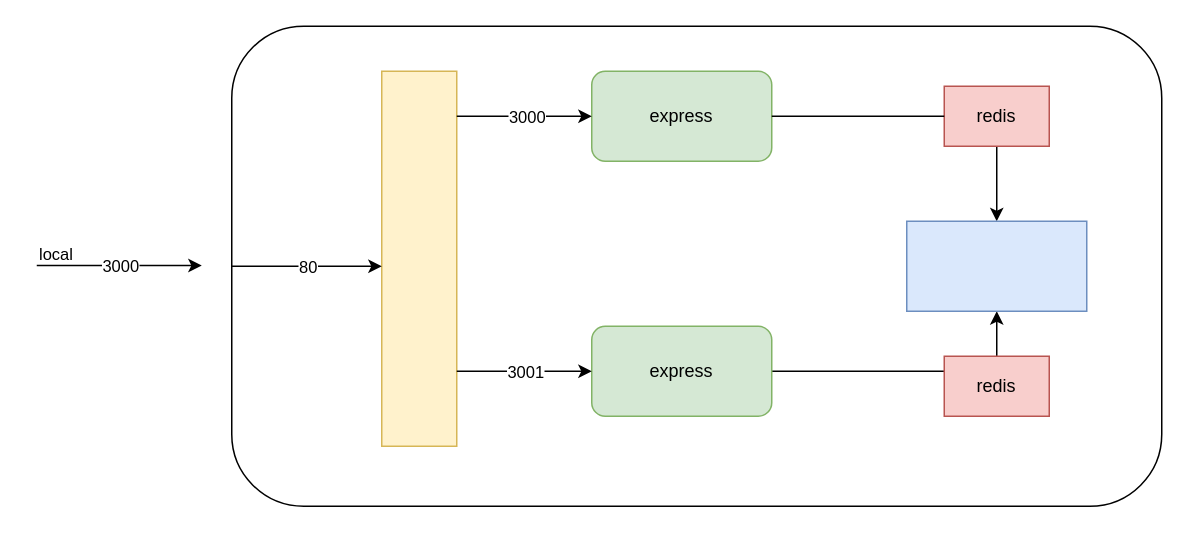
Image size: 1188x533. Some labels were removed from this diagram. Here are the shapes that lost their labels. From the top down, the box of each, then its label:
(380, 70, 457, 446): nginx
(905, 220, 1087, 311): mongodb
